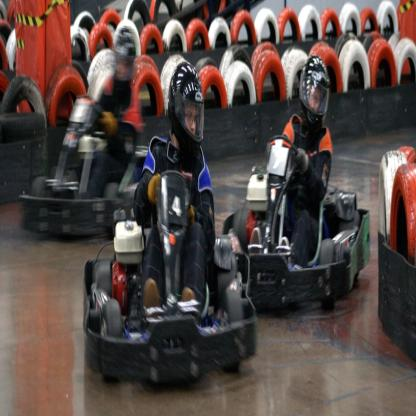Helmet: (164, 57, 204, 155), (297, 55, 330, 141), (108, 26, 135, 90)
